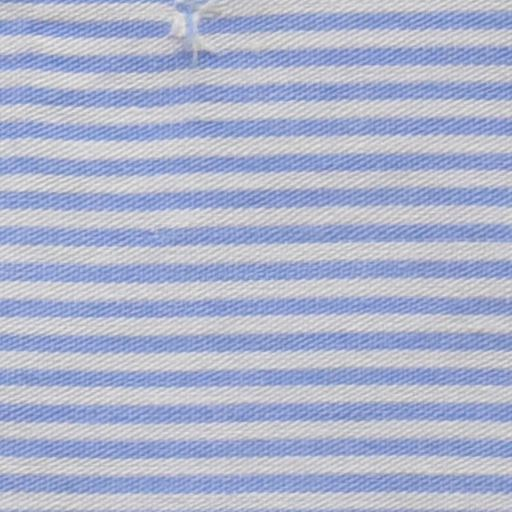defect: (159, 1, 219, 55)
